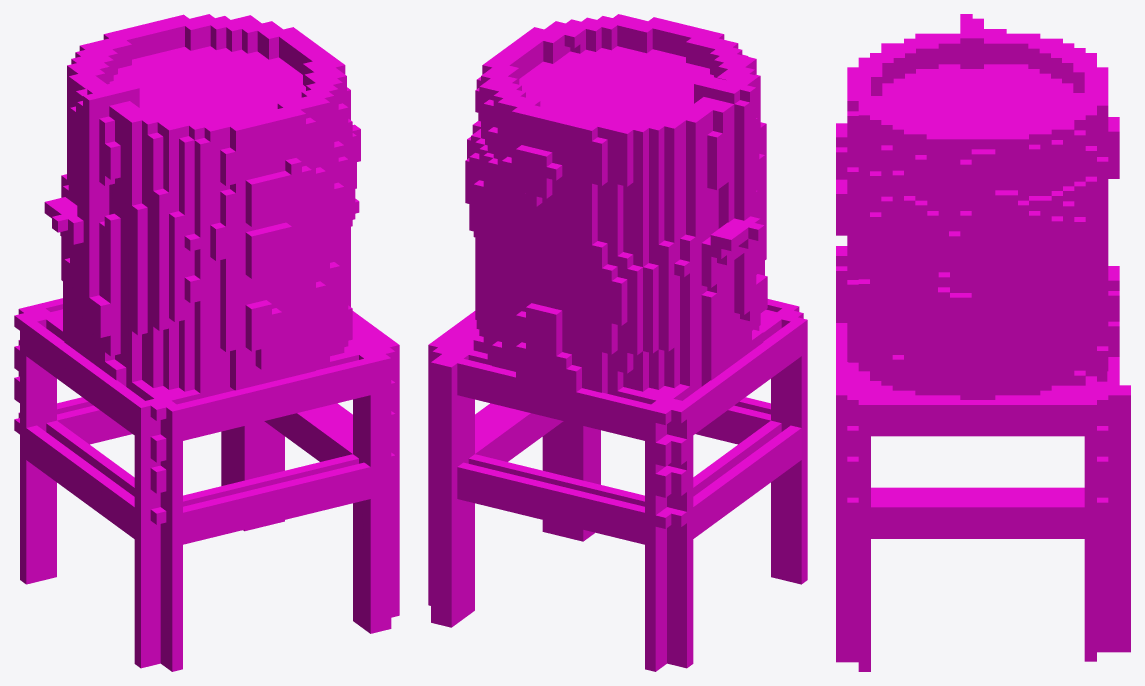
The model's file is water_tank.glb.
The picture shows the model from 3 angles, left to right: view 1: azimuth 30°, elevation 25°; view 2: azimuth 150°, elevation 25°; view 3: azimuth 270°, elevation 25°; orthographic projection.
Visible parts, largest first — view 1: col_wall_07, col_wall_19, col_roof_59, col_wall_33, col_column_01, col_column_03, col_wall_02, col_wall_14, col_column_02, col_column_05, col_wall_27, col_roof_28 (+67 smaller); view 2: col_block_01, col_wall_04, col_wall_16, col_roof_59, col_column_03, col_column_02, col_roof_06, col_wall_14, col_column_22, col_wall_02, col_block_45, col_roof_28 (+73 smaller); view 3: col_wall_37, col_wall_08, col_wall_20, col_roof_59, col_block_01, col_column_01, col_column_19, col_roof_07, col_roof_67, col_block_20, col_roof_78, col_wall_41 (+58 smaller).
Part boxes in pixels (left/top/right/bottom): col_wall_07: left=182, top=467, right=351, bottom=544; col_wall_19: left=176, top=363, right=351, bottom=440; col_roof_59: left=113, top=47, right=272, bottom=120; col_wall_33: left=194, top=186, right=329, bottom=393; col_column_01: left=358, top=448, right=391, bottom=633; col_column_03: left=134, top=487, right=160, bottom=668; col_wall_02: left=26, top=425, right=133, bottom=530; col_wall_14: left=26, top=321, right=133, bottom=426; col_column_02: left=20, top=402, right=46, bottom=584; col_column_05: left=160, top=491, right=182, bottom=671; col_wall_27: left=245, top=210, right=296, bottom=387; col_roof_28: left=68, top=74, right=142, bottom=237; col_block_01: left=431, top=433, right=474, bottom=627; col_wall_04: left=476, top=467, right=645, bottom=544; col_wall_16: left=476, top=363, right=650, bottom=440; col_roof_59: left=555, top=59, right=701, bottom=194; col_column_03: left=771, top=400, right=807, bottom=584; col_column_02: left=667, top=487, right=693, bottom=668; col_roof_06: left=531, top=126, right=562, bottom=310; col_wall_14: left=683, top=330, right=790, bottom=434; col_column_22: left=571, top=240, right=607, bottom=372; col_wall_02: left=693, top=434, right=790, bottom=538; col_block_45: left=487, top=183, right=623, bottom=391; col_roof_28: left=686, top=74, right=759, bottom=237; col_wall_37: left=915, top=221, right=1040, bottom=395; col_wall_08: left=892, top=487, right=1084, bottom=538; col_wall_20: left=892, top=385, right=1085, bottom=436; col_roof_59: left=904, top=78, right=1084, bottom=121; col_block_01: left=1097, top=477, right=1130, bottom=652; col_column_01: left=836, top=487, right=858, bottom=662; col_column_19: left=960, top=293, right=995, bottom=399; col_roof_07: left=971, top=149, right=995, bottom=298; col_roof_67: left=915, top=155, right=1028, bottom=201; col_block_20: left=1084, top=385, right=1130, bottom=477; col_roof_78: left=904, top=129, right=1051, bottom=186; col_wall_41: left=904, top=185, right=1051, bottom=360.
Bounding box in the file's own units: 227 × 420 × 210.
